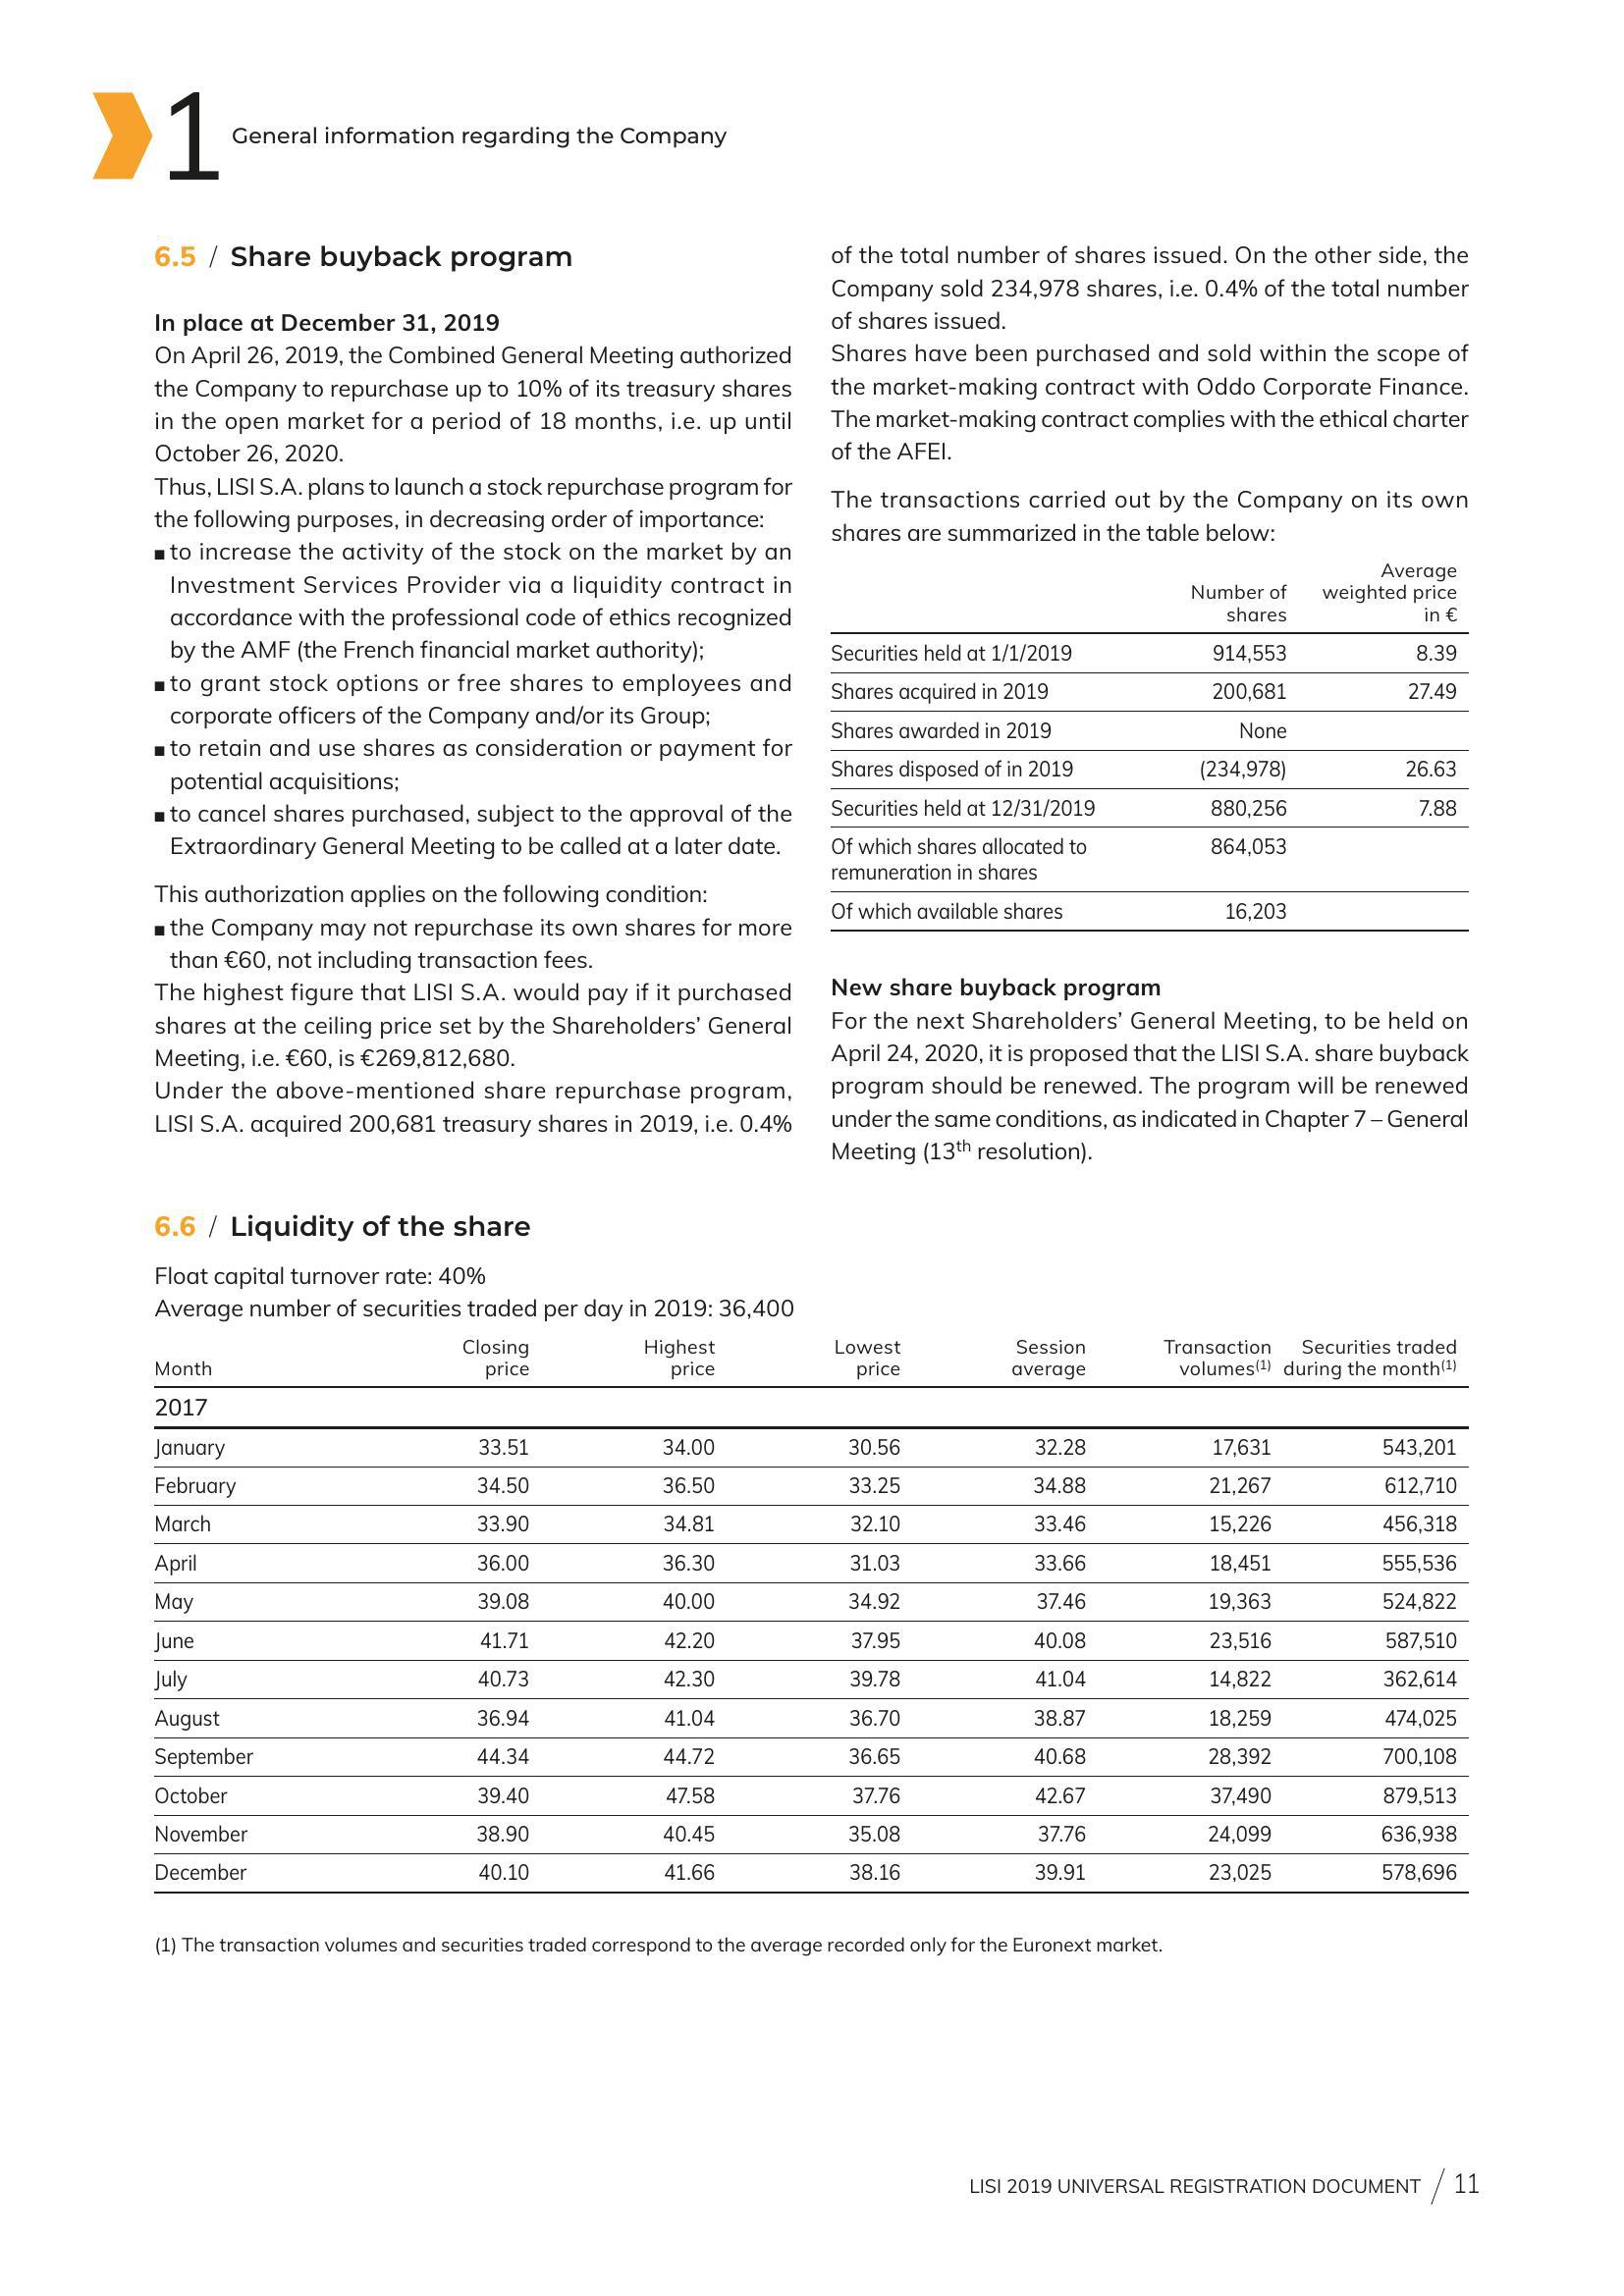cell: (824, 552, 1158, 632), (824, 827, 1158, 891), (824, 891, 1158, 933), (824, 632, 1158, 673), (1308, 552, 1473, 632), (148, 1330, 381, 1386), (824, 673, 1158, 711), (824, 711, 1158, 750), (824, 750, 1158, 789), (824, 789, 1158, 827), (1158, 552, 1308, 632), (381, 1330, 591, 1386), (591, 1330, 794, 1386), (1308, 827, 1473, 891), (1287, 1330, 1471, 1386), (148, 1697, 381, 1739), (794, 1330, 967, 1386), (967, 1330, 1139, 1386), (1158, 827, 1308, 891), (148, 1386, 381, 1426), (148, 1620, 381, 1660), (148, 1815, 381, 1855), (148, 1426, 381, 1465), (148, 1465, 381, 1504), (148, 1504, 381, 1542), (148, 1542, 381, 1581), (148, 1581, 381, 1620), (148, 1776, 381, 1815), (381, 1697, 591, 1739), (148, 1660, 381, 1697), (148, 1739, 381, 1776), (148, 1855, 381, 1892), (591, 1697, 794, 1739), (381, 1386, 591, 1426), (381, 1620, 591, 1660), (381, 1815, 591, 1855), (1139, 1330, 1287, 1386), (591, 1386, 794, 1426), (591, 1620, 794, 1660), (591, 1815, 794, 1855), (381, 1426, 591, 1465), (381, 1465, 591, 1504), (381, 1504, 591, 1542), (381, 1542, 591, 1581), (381, 1581, 591, 1620), (381, 1776, 591, 1815), (591, 1426, 794, 1465), (591, 1465, 794, 1504), (591, 1504, 794, 1542), (591, 1542, 794, 1581), (591, 1581, 794, 1620), (591, 1776, 794, 1815), (1287, 1697, 1471, 1739), (381, 1660, 591, 1697), (381, 1739, 591, 1776), (381, 1855, 591, 1892), (591, 1660, 794, 1697), (591, 1739, 794, 1776), (591, 1855, 794, 1892), (1287, 1386, 1471, 1426), (1287, 1620, 1471, 1660), (1287, 1815, 1471, 1855), (794, 1697, 967, 1739), (967, 1697, 1139, 1739), (1287, 1426, 1471, 1465), (1287, 1465, 1471, 1504), (1287, 1504, 1471, 1542), (1287, 1542, 1471, 1581), (1287, 1581, 1471, 1620), (1287, 1776, 1471, 1815), (1308, 891, 1473, 933), (794, 1386, 967, 1426), (967, 1386, 1139, 1426), (794, 1620, 967, 1660), (967, 1620, 1139, 1660), (794, 1815, 967, 1855), (967, 1815, 1139, 1855), (1287, 1660, 1471, 1697), (1287, 1739, 1471, 1776), (1287, 1855, 1471, 1892), (1308, 632, 1473, 673), (794, 1426, 967, 1465), (967, 1426, 1139, 1465), (794, 1465, 967, 1504), (967, 1465, 1139, 1504), (794, 1504, 967, 1542), (967, 1504, 1139, 1542), (794, 1542, 967, 1581), (967, 1542, 1139, 1581), (794, 1581, 967, 1620), (967, 1581, 1139, 1620), (794, 1776, 967, 1815), (967, 1776, 1139, 1815), (1308, 673, 1473, 711), (1308, 711, 1473, 750), (1308, 750, 1473, 789), (1308, 789, 1473, 827), (794, 1660, 967, 1697), (967, 1660, 1139, 1697), (794, 1739, 967, 1776), (967, 1739, 1139, 1776), (794, 1855, 967, 1892), (967, 1855, 1139, 1892), (1158, 891, 1308, 933), (1139, 1697, 1287, 1739), (1158, 632, 1308, 673), (1139, 1386, 1287, 1426), (1139, 1620, 1287, 1660), (1139, 1815, 1287, 1855), (1158, 673, 1308, 711), (1158, 711, 1308, 750), (1158, 750, 1308, 789), (1158, 789, 1308, 827), (1139, 1426, 1287, 1465), (1139, 1465, 1287, 1504), (1139, 1504, 1287, 1542), (1139, 1542, 1287, 1581), (1139, 1581, 1287, 1620), (1139, 1776, 1287, 1815), (1139, 1660, 1287, 1697), (1139, 1739, 1287, 1776), (1139, 1855, 1287, 1892)
table: (148, 1330, 1471, 1892), (824, 552, 1473, 933)
